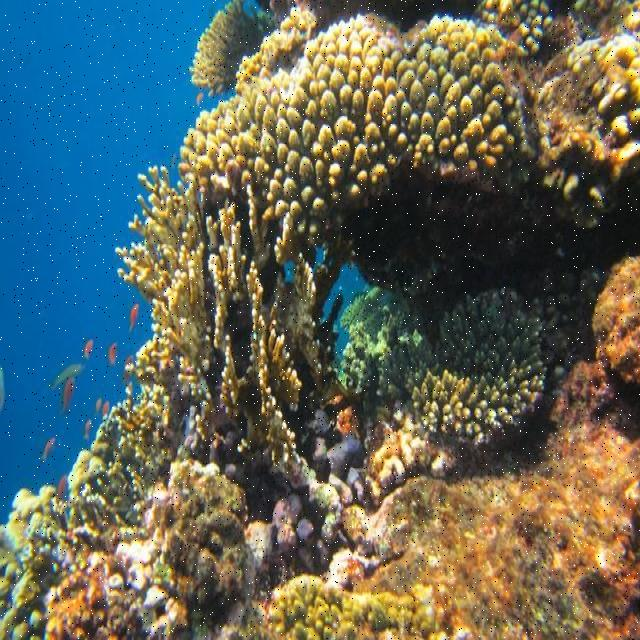fish: (49, 364, 85, 391), (61, 378, 73, 414), (55, 470, 66, 507), (42, 437, 53, 463), (130, 303, 138, 332), (109, 343, 115, 368), (85, 342, 91, 362)
reefs: (178, 7, 525, 242), (115, 165, 335, 490), (403, 291, 552, 443), (162, 473, 251, 609)
